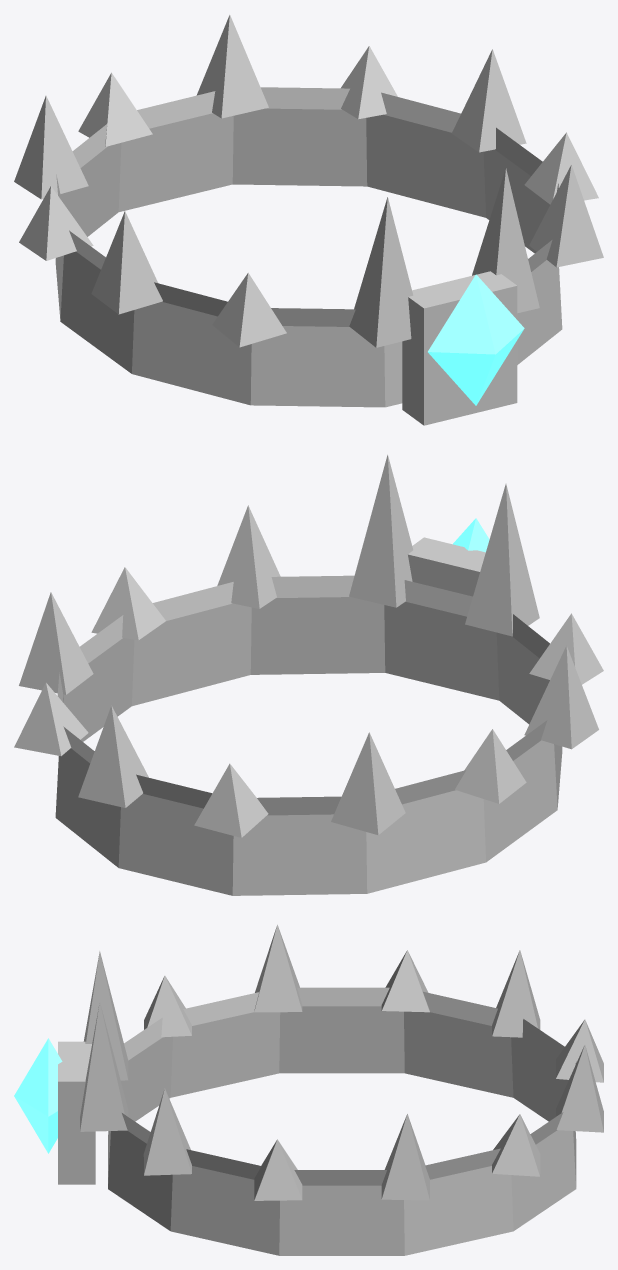
File: armor_helmet_int.glb
3 views of the same model, one above another, from view 1: azimuth 30°, elevation 25°; view 2: azimuth 150°, elevation 25°; view 3: azimuth 270°, elevation 25° (orthographic). The views are drawn at different scales.
Visible parts, largest first — view 1: armor_helmet_int; view 2: armor_helmet_int; view 3: armor_helmet_int.
Part boxes in pixels (bbox=[...]): armor_helmet_int: bbox=[14, 14, 603, 425]; armor_helmet_int: bbox=[14, 454, 603, 895]; armor_helmet_int: bbox=[14, 924, 603, 1255].
Bounding box in the file's own units: 0.2572 × 0.11 × 0.3115.
